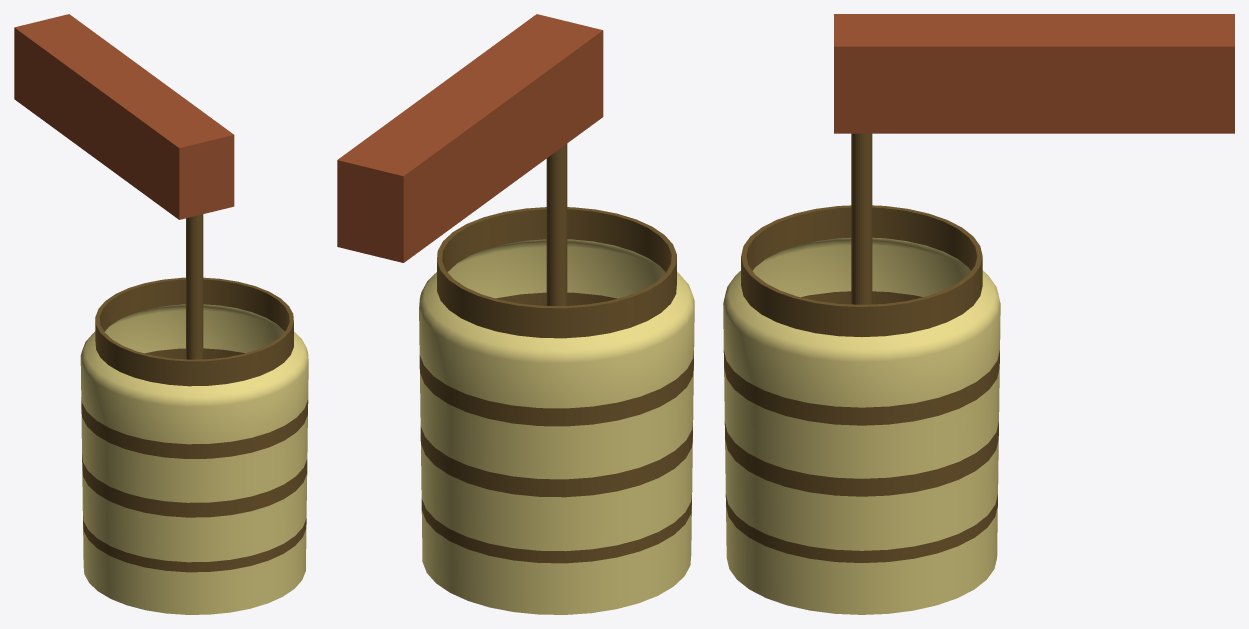
File: Japanese_lambalar.fbx
3 views of the same model, side by side, from view 1: azimuth 30°, elevation 25°; view 2: azimuth 150°, elevation 25°; view 3: azimuth 270°, elevation 25° (orthographic). The views are drawn at different scales.
Parts seen in each view (by area): view 1: Cylinder.001, Cube.004; view 2: Cylinder.001, Cube.004; view 3: Cylinder.001, Cube.004.
Boxes of the visible parts, left/top/right/bottom form: Cylinder.001: left=80, top=214, right=308, bottom=614; Cube.004: left=14, top=14, right=234, bottom=219; Cylinder.001: left=419, top=144, right=694, bottom=614; Cube.004: left=337, top=14, right=603, bottom=262; Cylinder.001: left=723, top=133, right=1000, bottom=614; Cube.004: left=834, top=14, right=1234, bottom=133.
Size of the model in its own units: 12.58 by 26.42 by 23.21.
